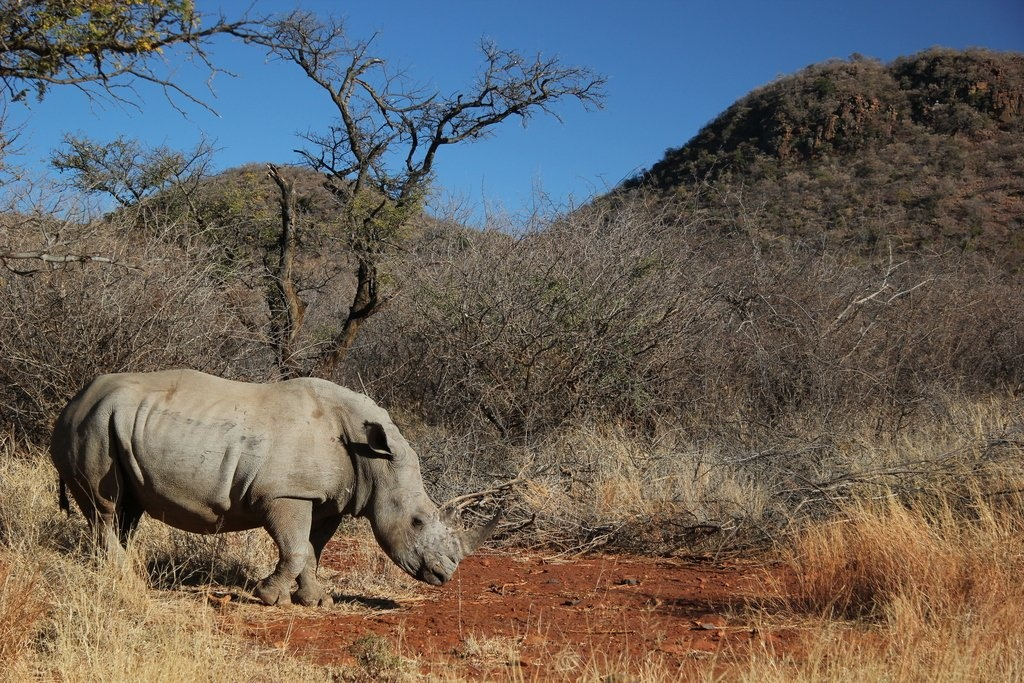rhino: (42, 363, 503, 609)
